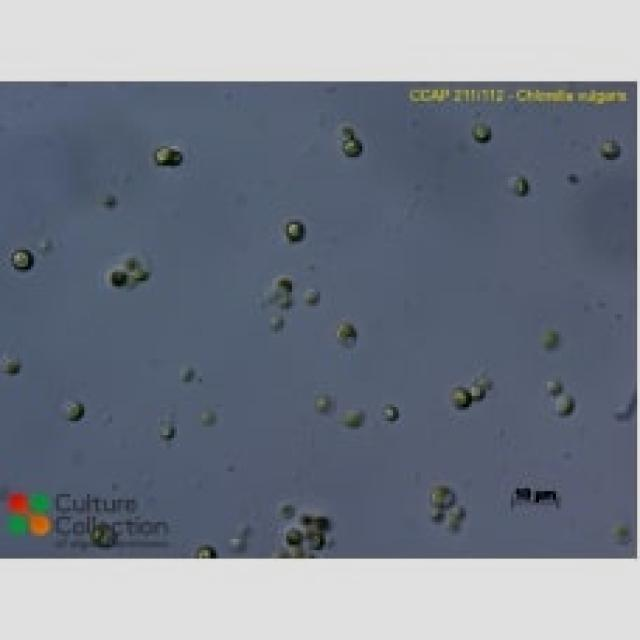Green Algae: (424, 480, 460, 508), (337, 132, 365, 160), (502, 172, 530, 200), (331, 320, 362, 345), (469, 118, 494, 143), (8, 250, 36, 272), (283, 219, 306, 244), (283, 522, 306, 547), (152, 140, 174, 166), (107, 267, 132, 289), (62, 396, 84, 421), (449, 384, 469, 410), (556, 390, 575, 416), (600, 137, 618, 163), (314, 393, 334, 413)
